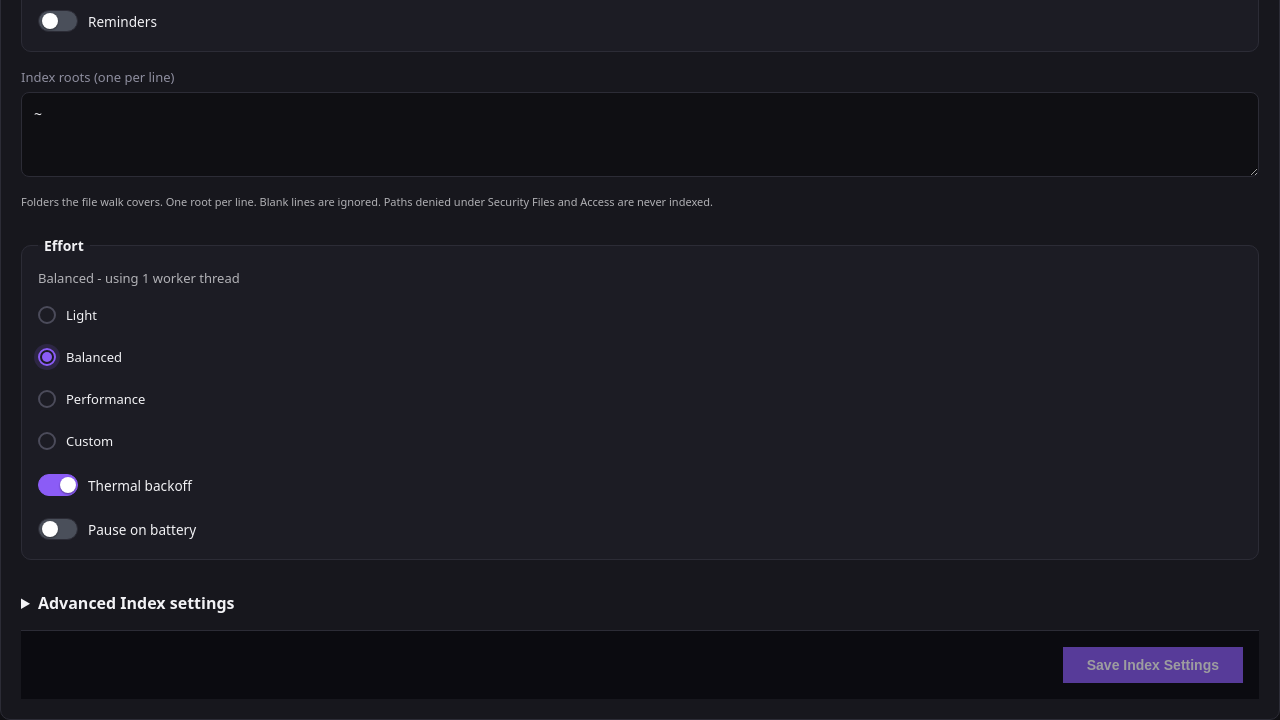
IndexPolicyPanel dirty gate › returns Save Index Settings to disabled once the save echo lands
(page scrolled)
Click the switch labelled "Thermal backoff": (115, 485) [38,474,192,496]
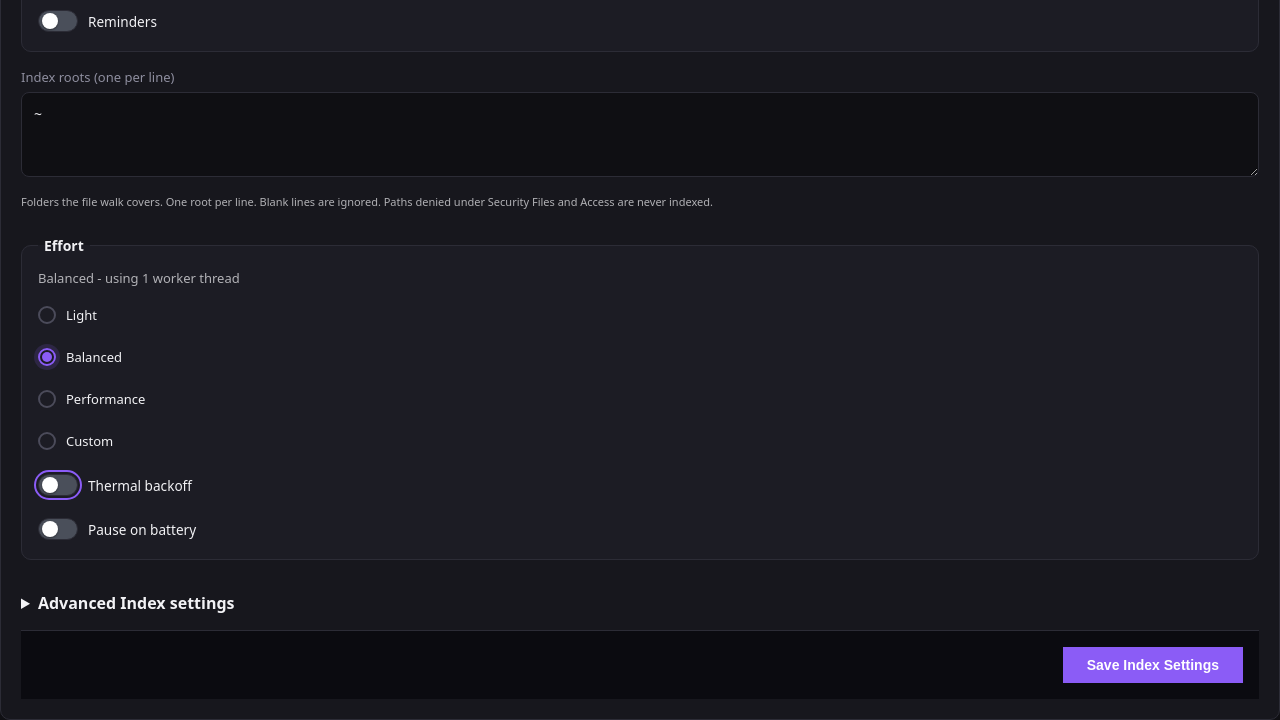
expect the button "Save Index Settings" is enabled: met
Click the button "Save Index Settings": (1153, 665) [1063,647,1243,683]
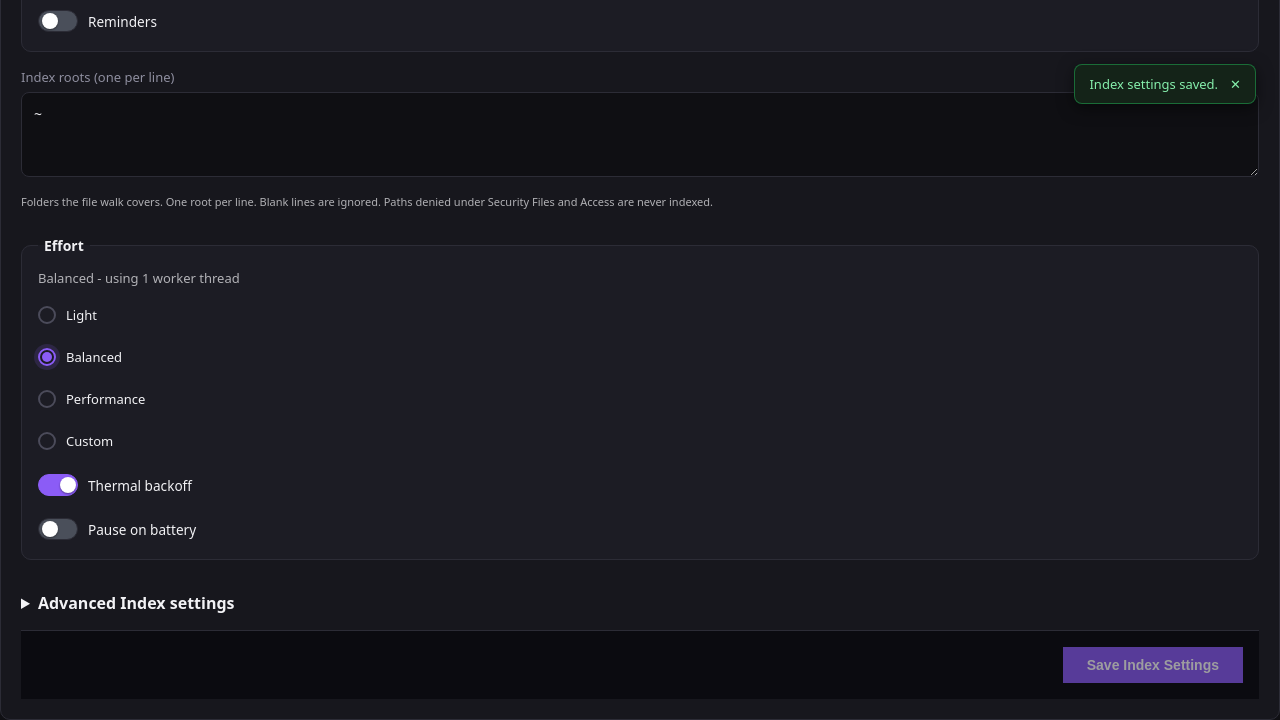
expect the text "Index settings saved." is shown: met, box [1090,75,1218,93]
expect the button "Save Index Settings" is disabled: met, box [1063,647,1243,683]
